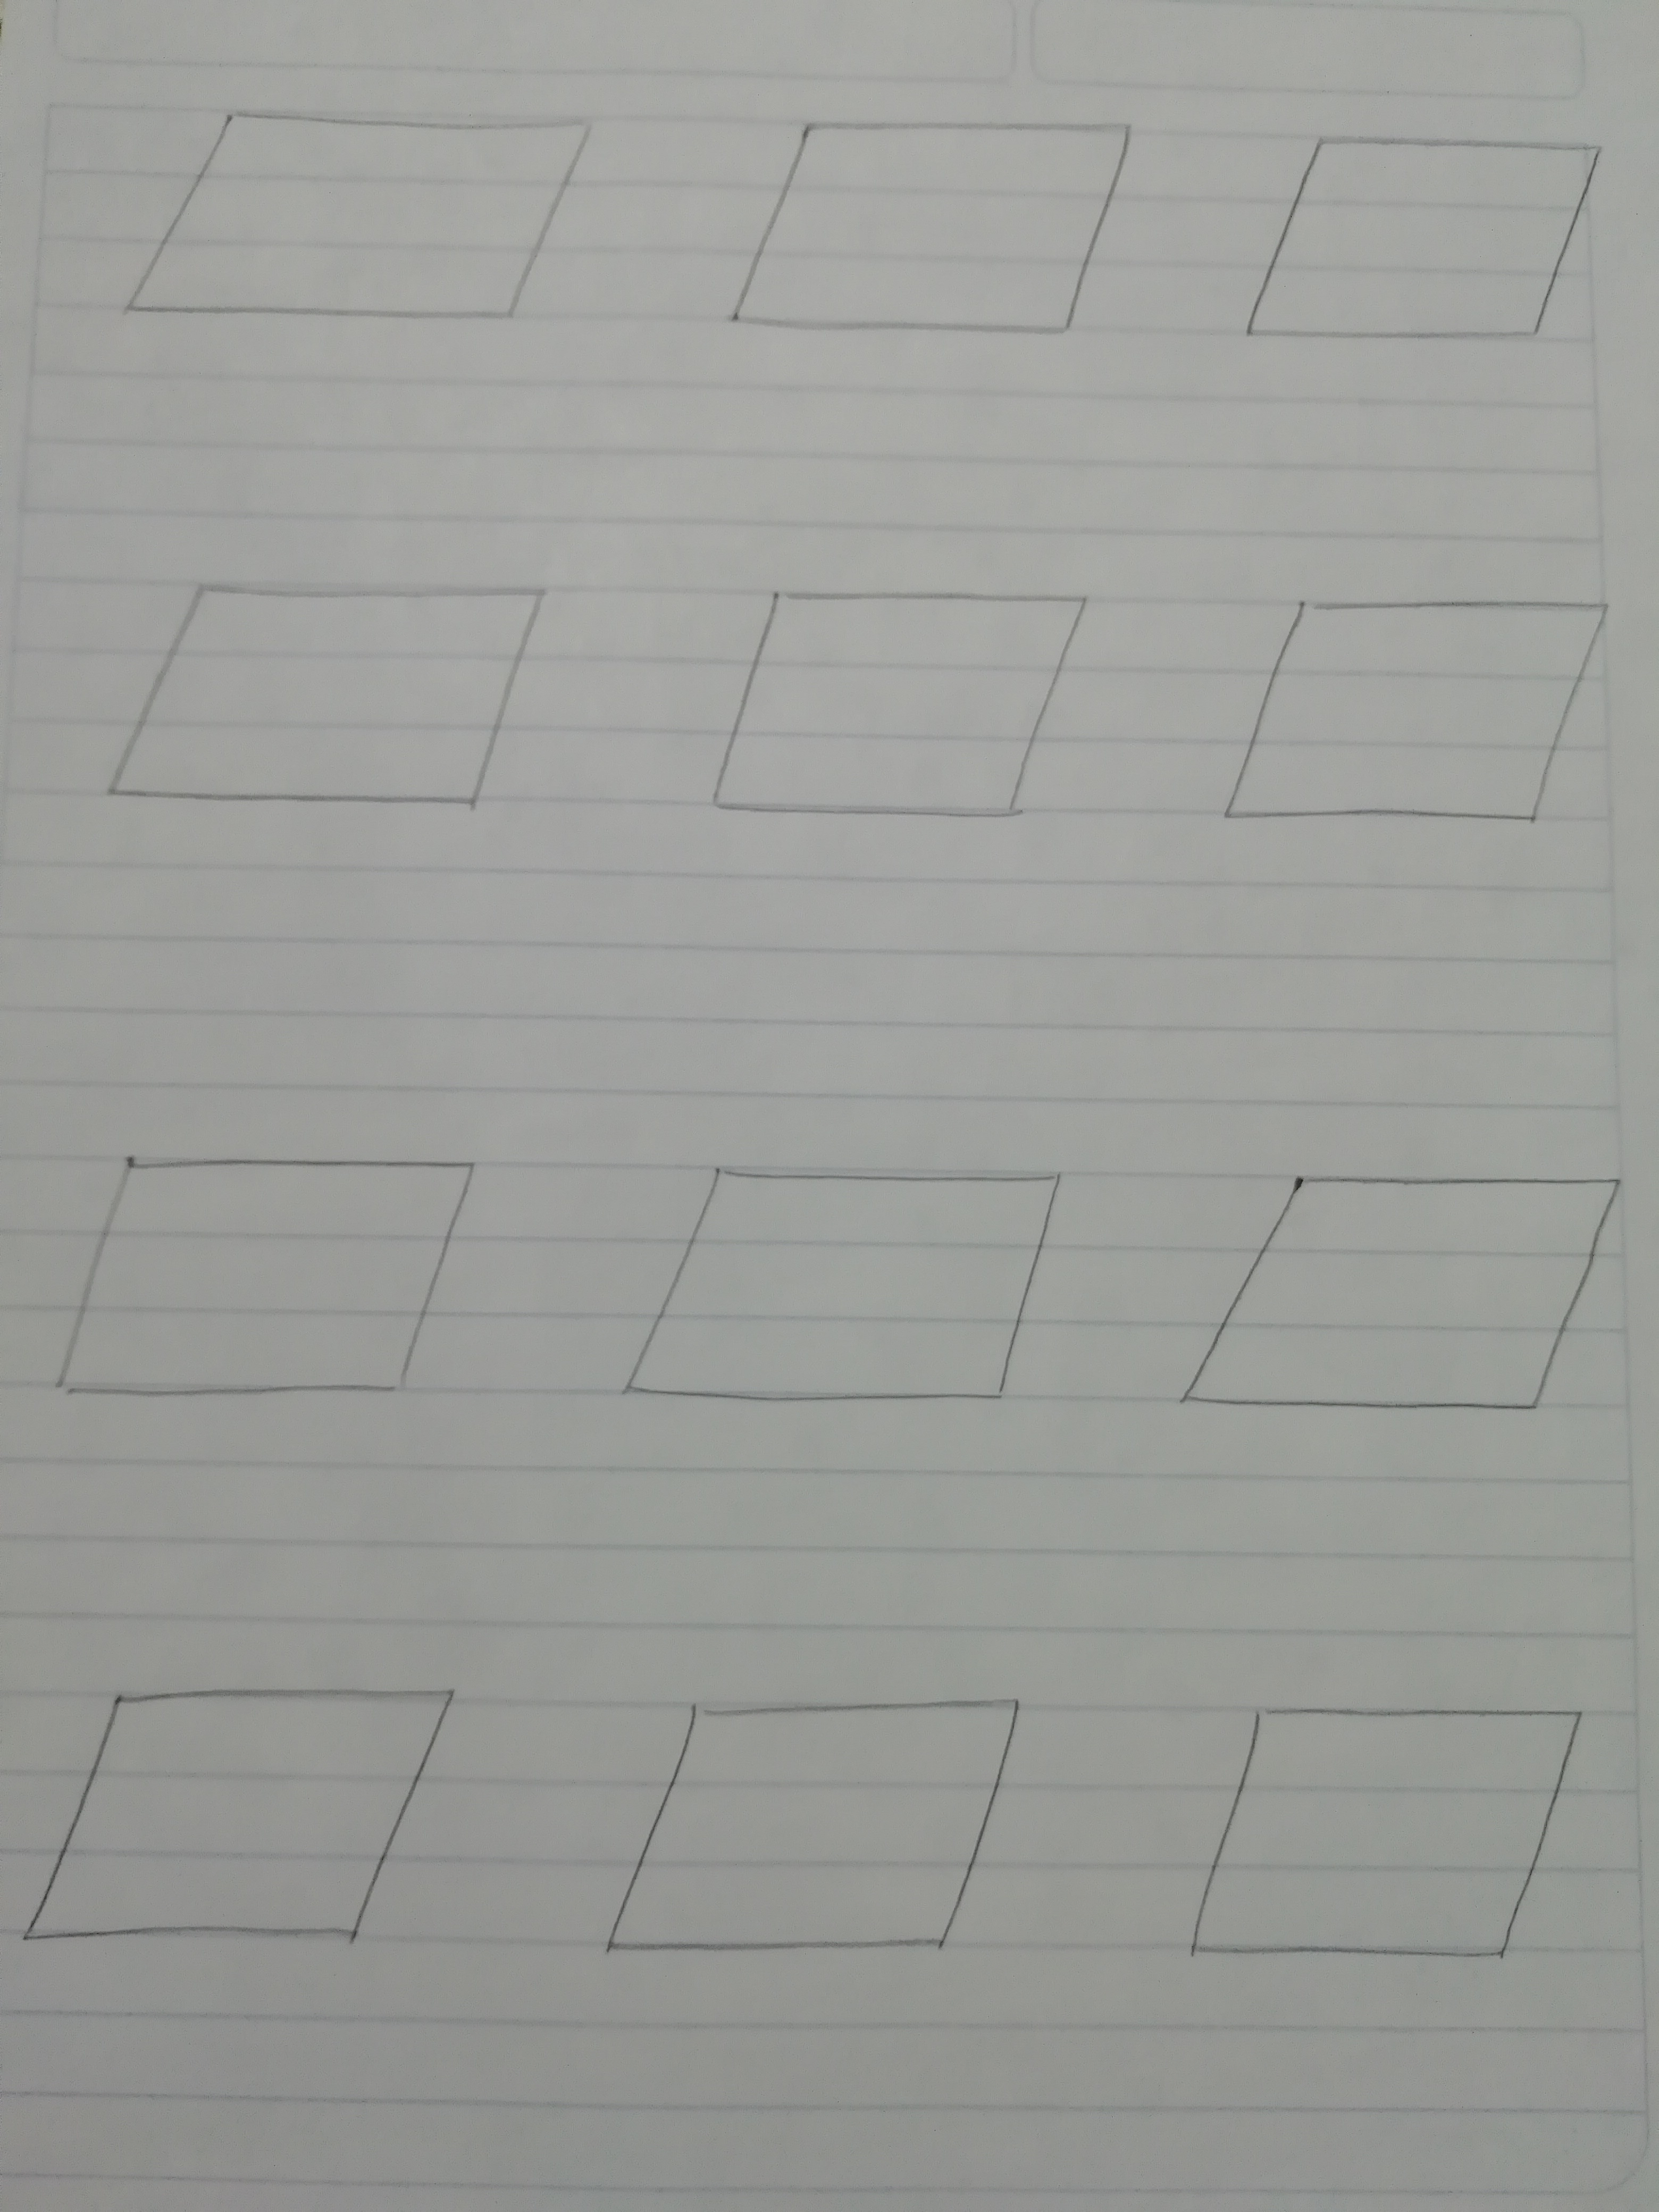scan: (61, 75, 626, 401), (59, 554, 582, 876), (587, 1127, 1108, 1449), (9, 1662, 481, 2010), (1157, 1134, 1647, 1468), (1168, 1681, 1624, 2027), (653, 549, 1108, 894), (594, 1677, 1068, 2006), (23, 1127, 498, 1453), (1192, 564, 1647, 897), (708, 92, 1154, 394), (1222, 92, 1624, 408)
